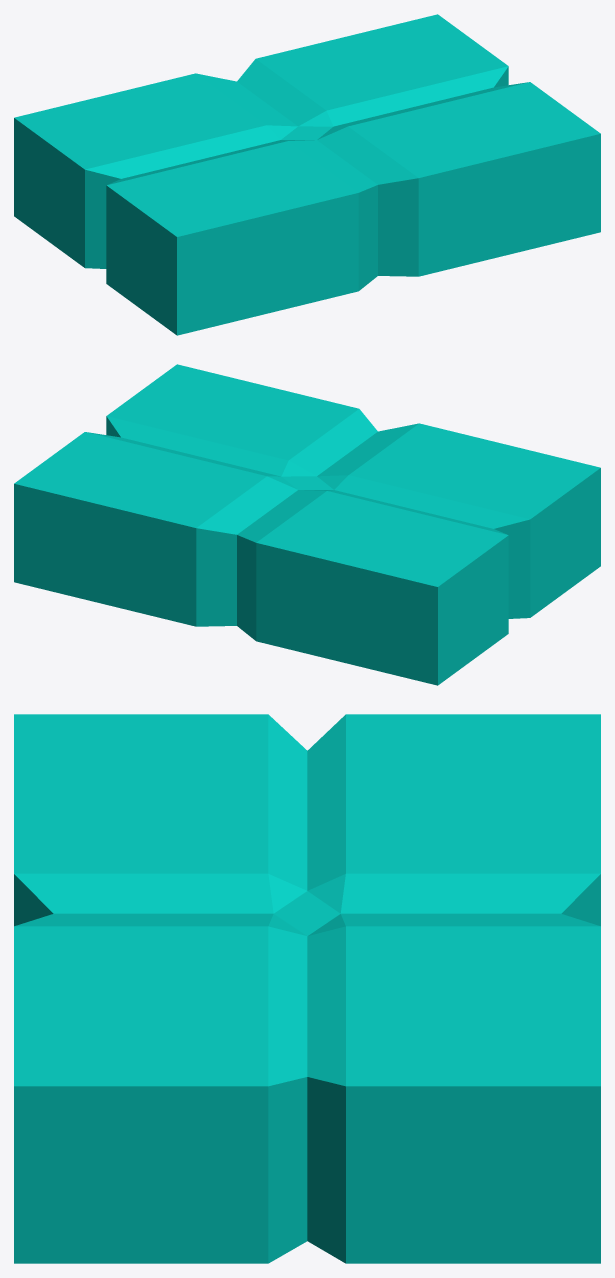
The model's file is factory3.dae.
3 views of the same model, one above another, from view 1: azimuth 30°, elevation 25°; view 2: azimuth 150°, elevation 25°; view 3: azimuth 270°, elevation 25° (orthographic). The views are drawn at different scales.
Visible parts, largest first — view 1: Cube; view 2: Cube; view 3: Cube.
Boxes of the visible parts, bbox=[...] form: Cube: bbox=[14, 14, 600, 335]; Cube: bbox=[14, 364, 600, 685]; Cube: bbox=[14, 714, 600, 1263].
Bounding box in the file's own units: 4.04 × 2.69 × 0.8981.
